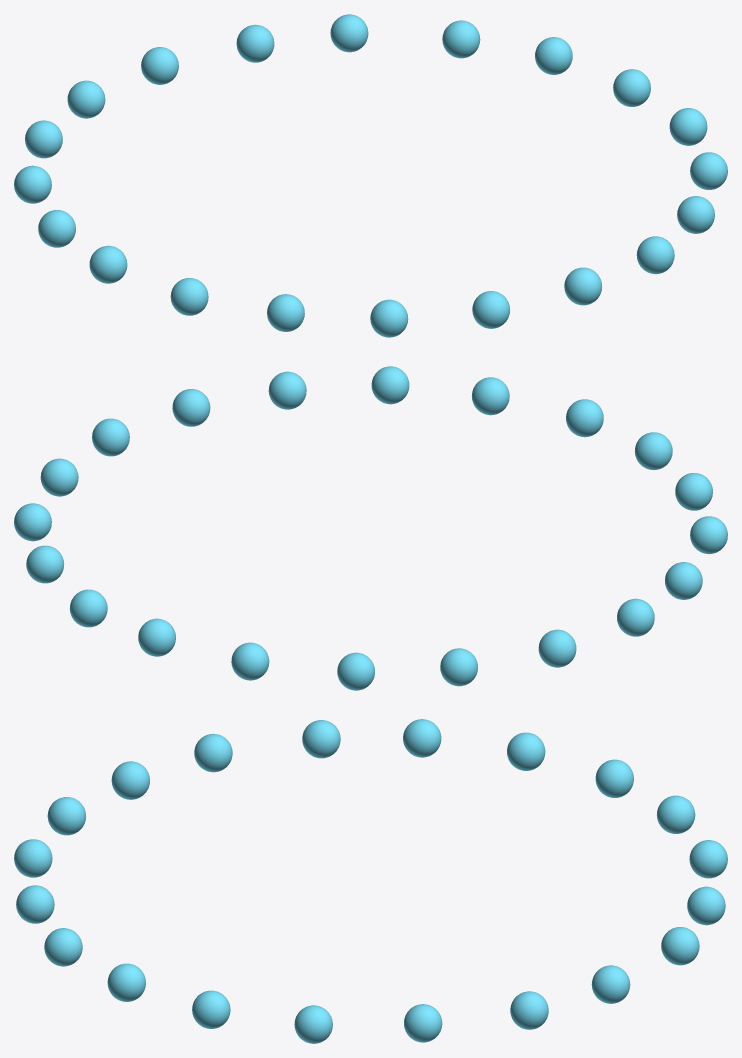
3 renders of one model, top to bottom at view 1: azimuth 30°, elevation 25°; view 2: azimuth 150°, elevation 25°; view 3: azimuth 270°, elevation 25°, orthographic.
Visible parts, largest first — view 1: Sphere049; view 2: Sphere049; view 3: Sphere049.
Boxes of the visible parts, x1,y1,x2,y2 form: Sphere049: (14, 14, 727, 337); Sphere049: (14, 366, 727, 690); Sphere049: (14, 719, 727, 1043).
Size of the model in its own units: 153 by 8.22 by 152.
